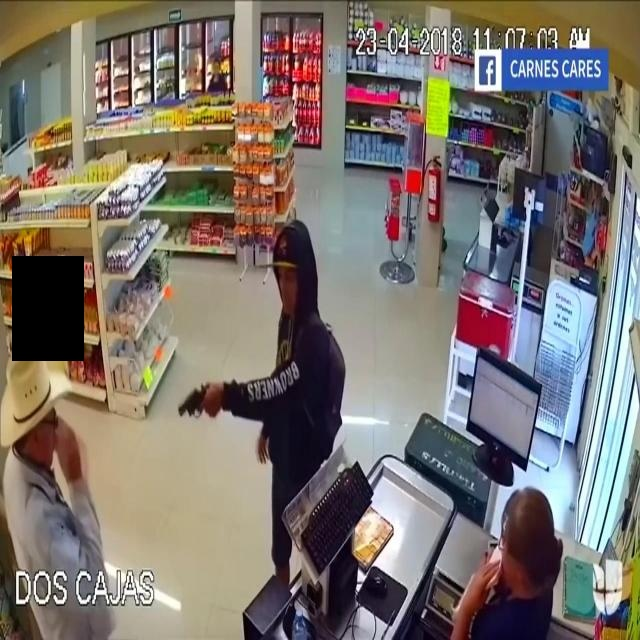gun: (167, 370, 229, 434)
